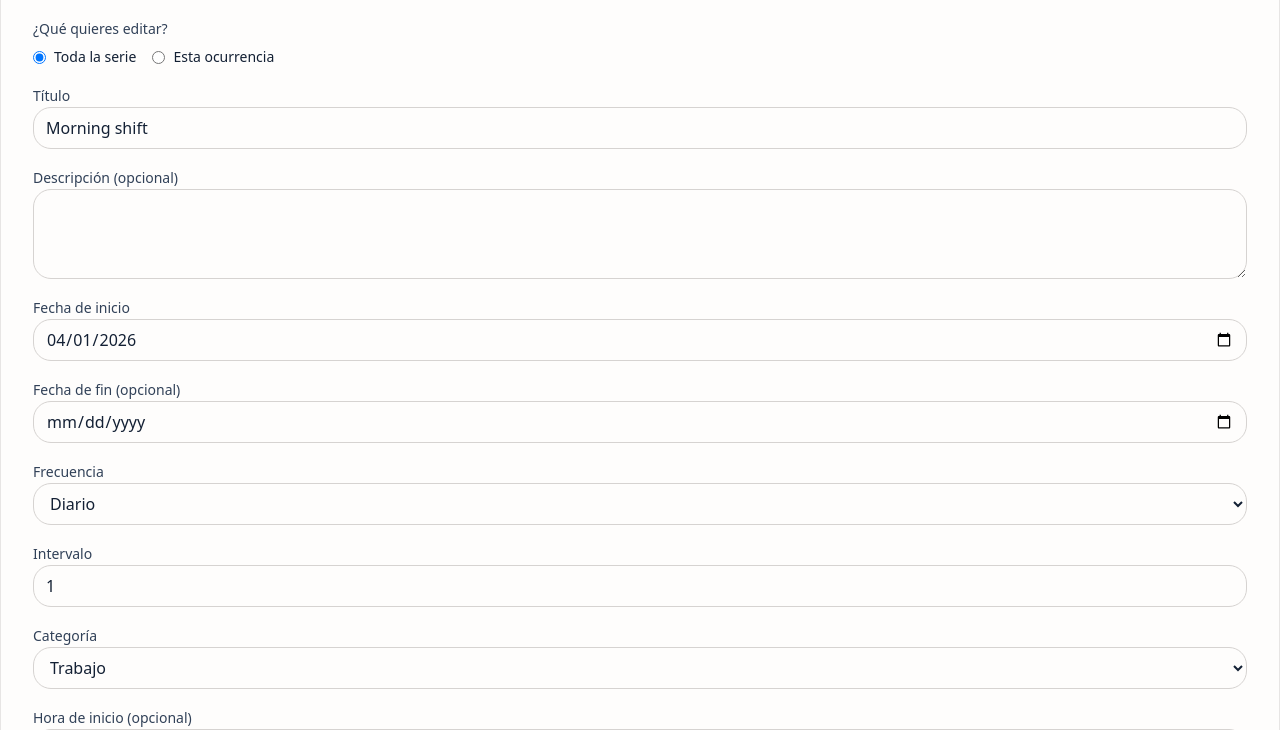
Test: EditEventForm › Recurring event - confirmation dialog when deleting exceptions › should close the dialog when the user cancels
Type "2026-05-01" into the date field labelled "Fecha de inicio". click: (640, 340)
box: [33, 319, 1247, 361]
(page scrolled)
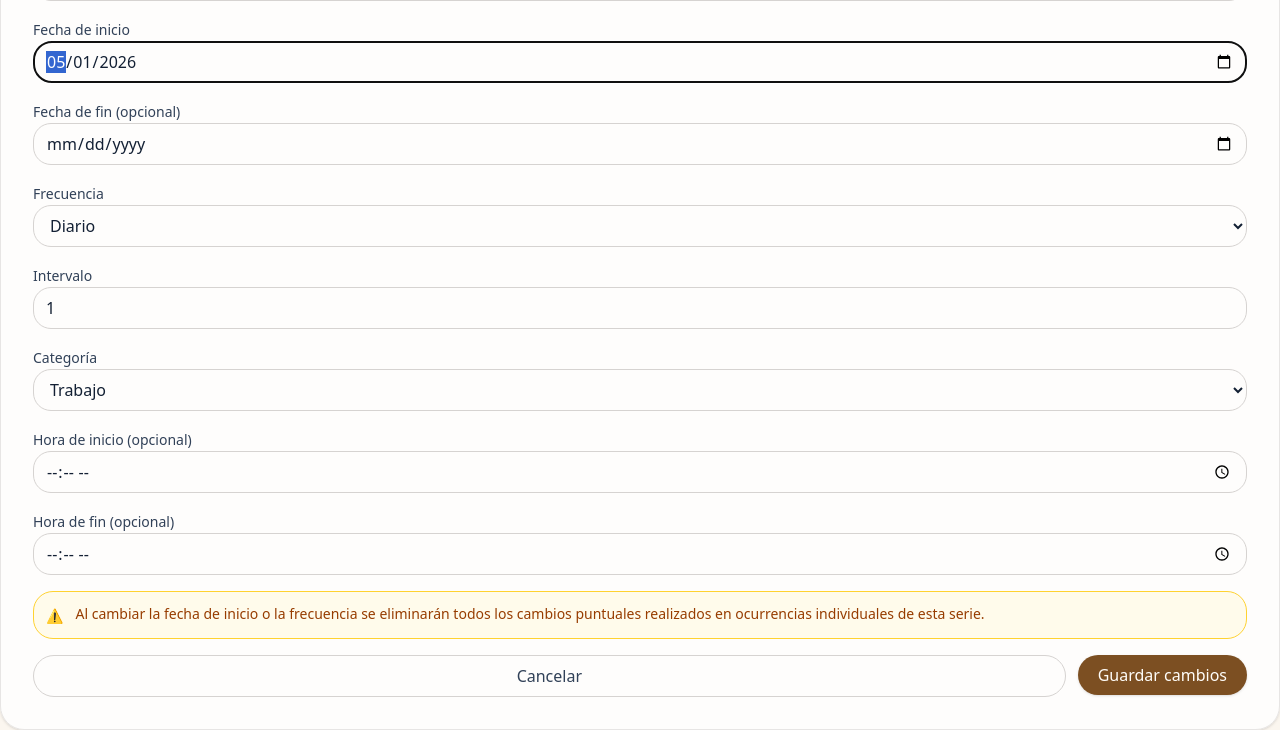
Click the button "Guardar cambios". click: (1162, 675)
box: [1078, 655, 1247, 695]
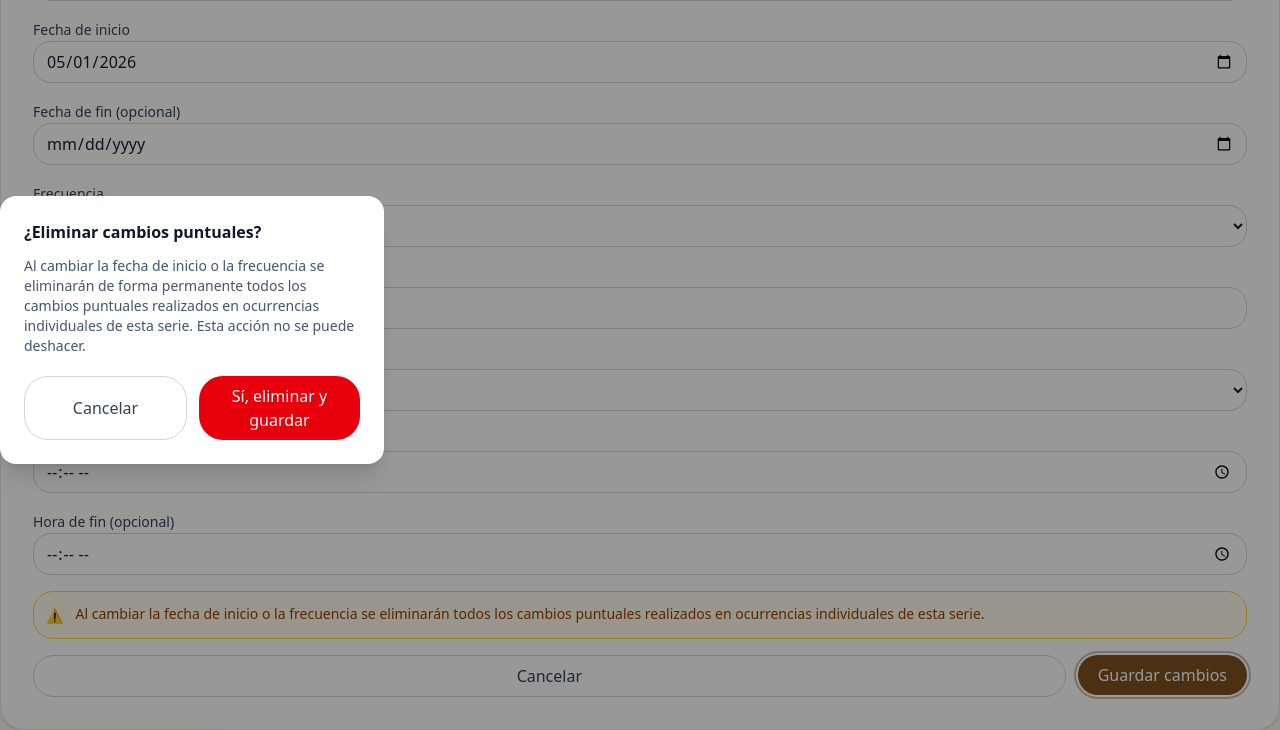
Result: the dialog is shown at [0, 196, 384, 464]
Click the button "Cancelar". click: (106, 408)
box: [24, 376, 187, 440]
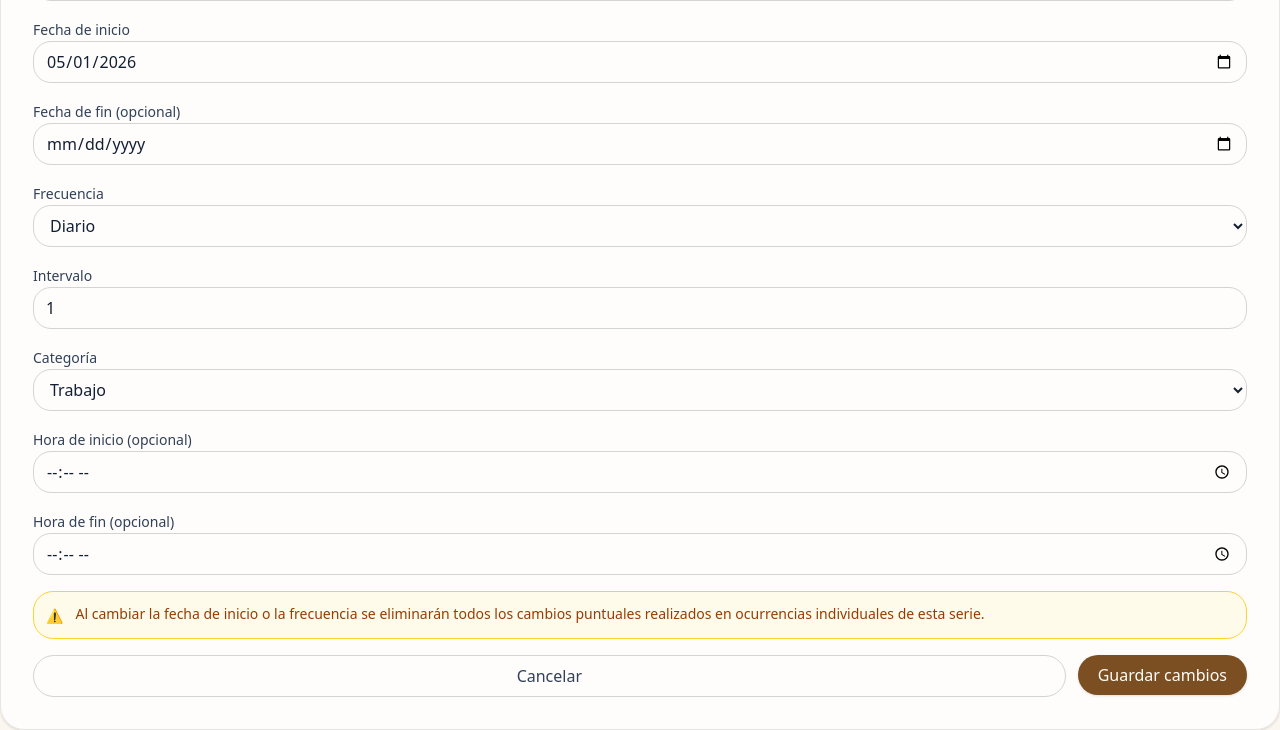
Result: the dialog is gone
